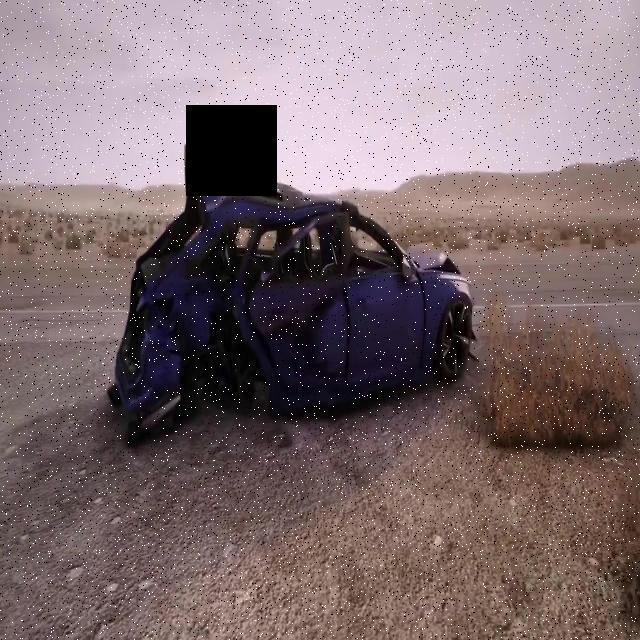accident: (105, 127, 477, 442)
